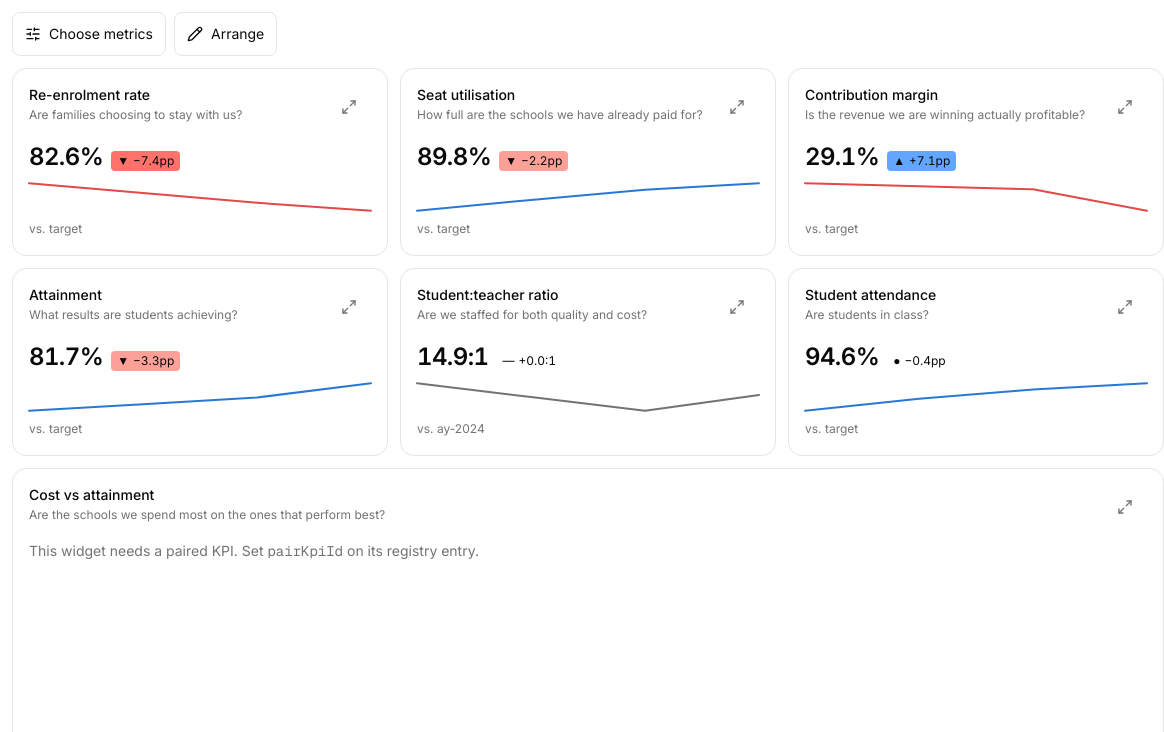
Test case: DashboardCustomizer › undo › can be dismissed without undoing
Click the button "Arrange": point(226, 34) [174,12,277,56]
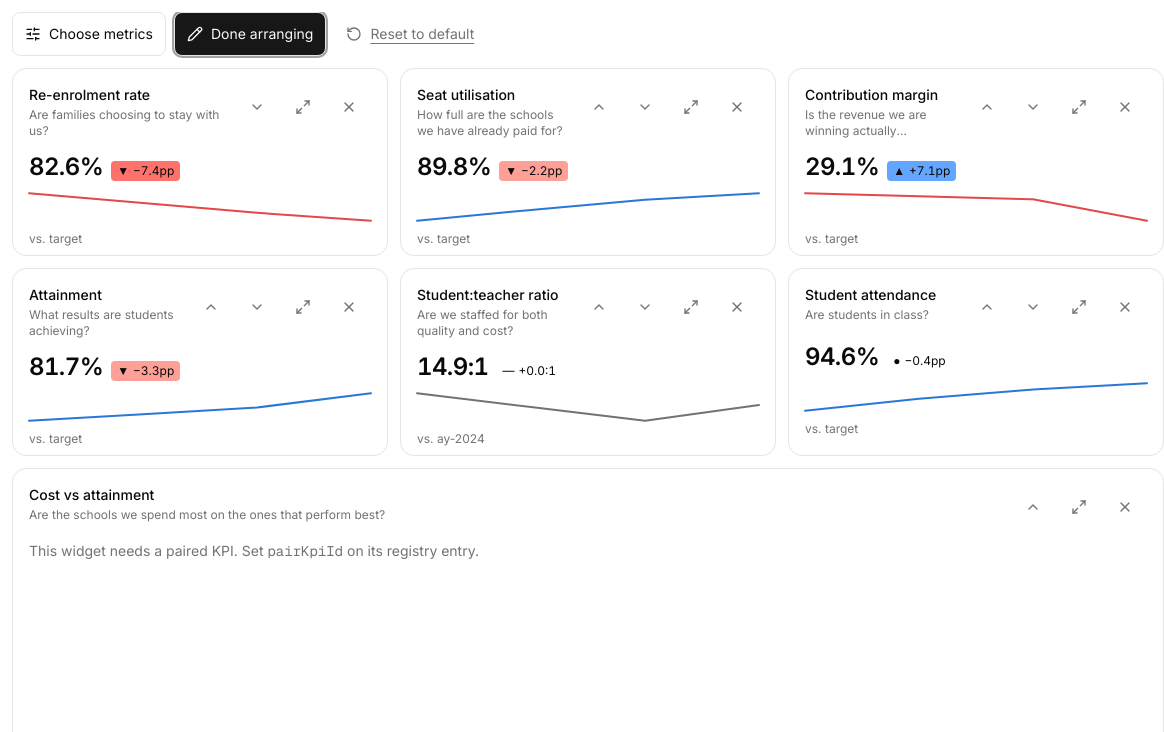
Click the button named "Remove Re-enrolment rate from dashboard": point(349, 107) [327,85,371,129]
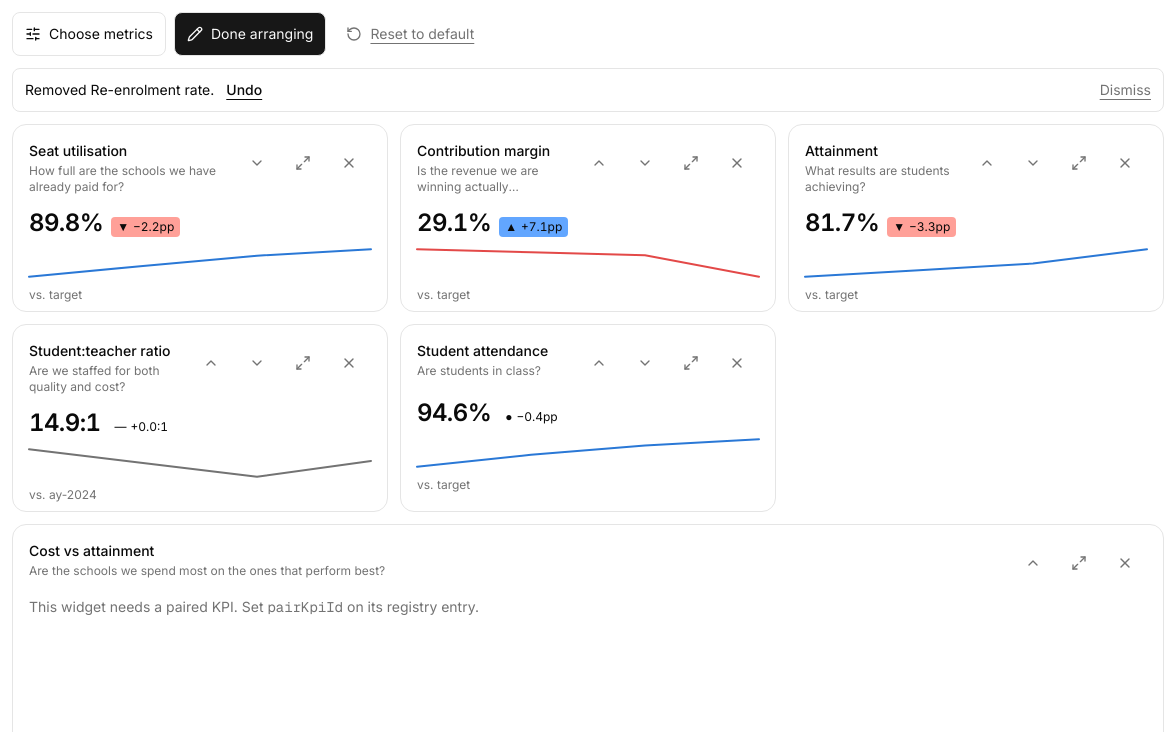
Click the button "Dismiss": point(1125, 90) [1100,80,1151,100]
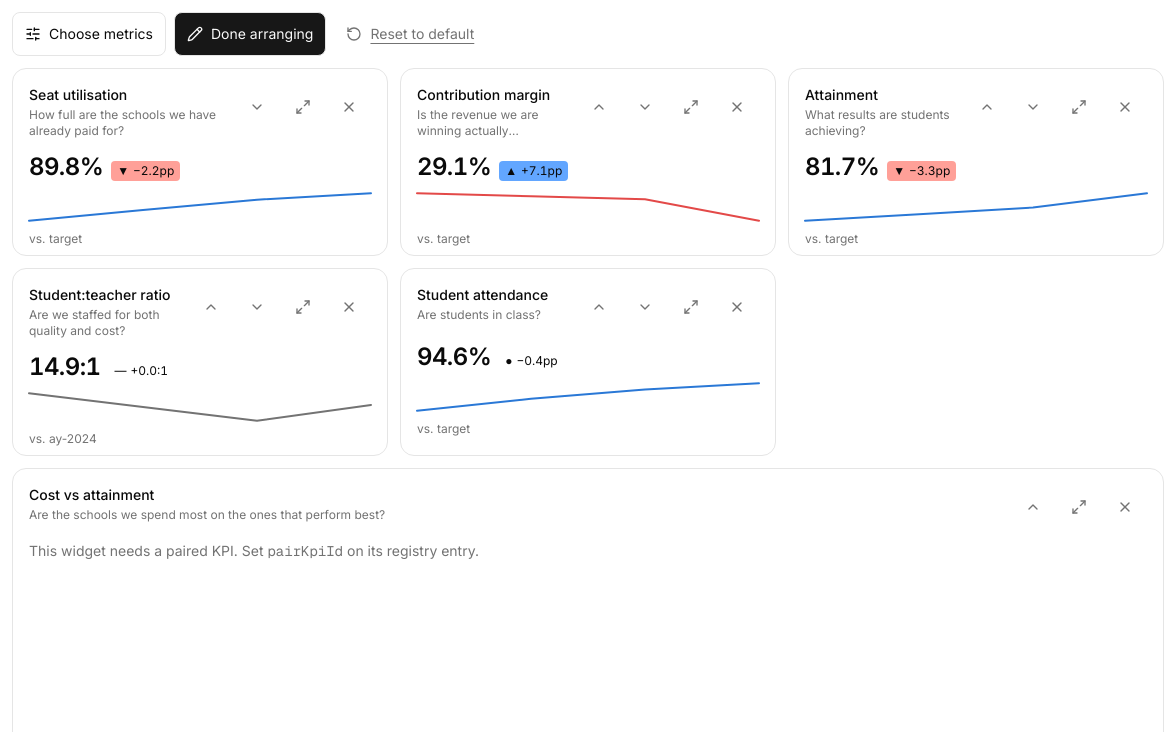
Expected: the button "Undo" is gone
